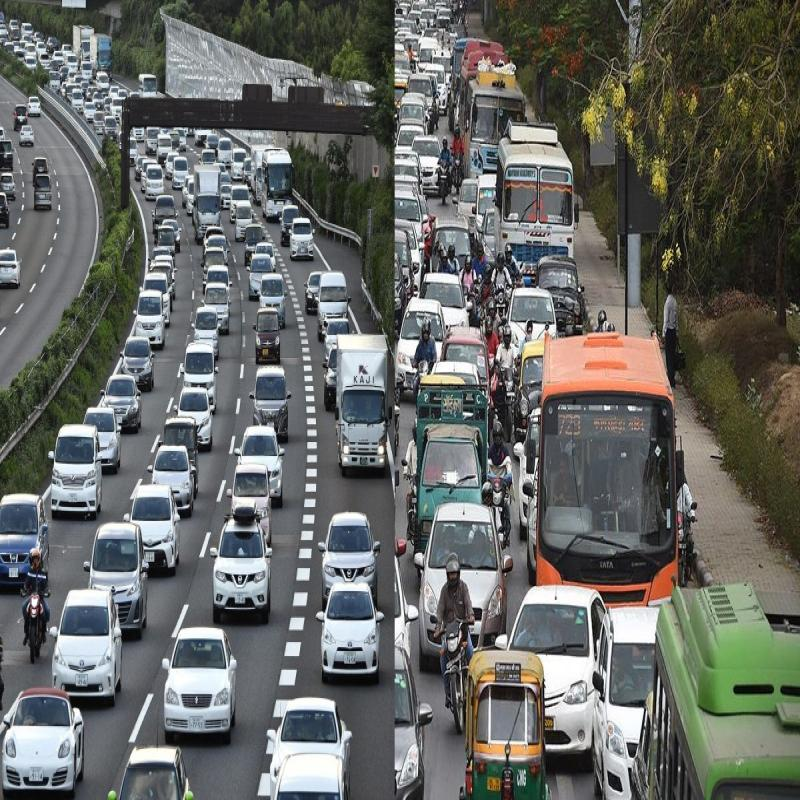auto: (434, 635, 552, 800)
car: (10, 660, 78, 792), (163, 615, 230, 744), (50, 571, 114, 699), (260, 684, 356, 768), (93, 518, 151, 641), (216, 505, 271, 626), (319, 578, 383, 676), (52, 418, 108, 519), (137, 469, 178, 578)
